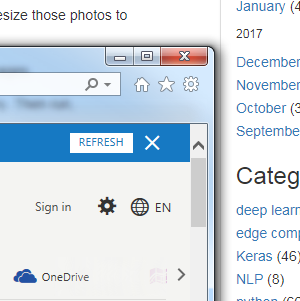close: (160, 46, 208, 66), (140, 133, 163, 153)
